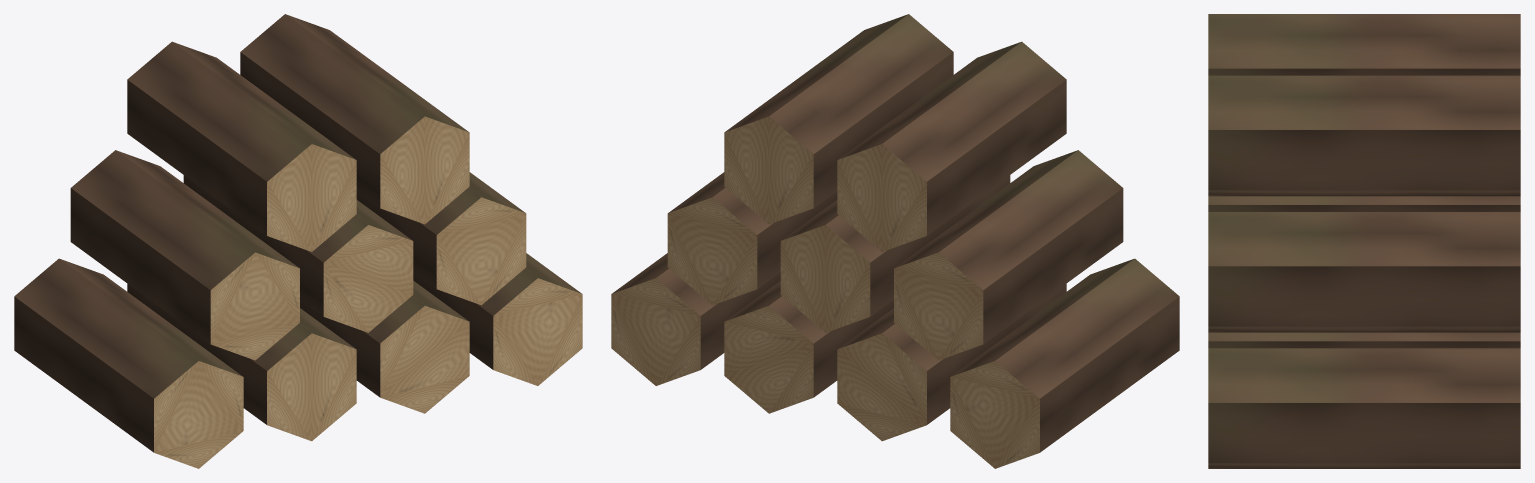
The model's file is SM_Camp_FirewoodStack.fbx.
3 renders of one model, left to right at view 1: azimuth 30°, elevation 25°; view 2: azimuth 150°, elevation 25°; view 3: azimuth 270°, elevation 25°, orthographic. The views are drawn at different scales.
Parts seen in each view (by area): view 1: SM_Camp_FirewoodStack; view 2: SM_Camp_FirewoodStack; view 3: SM_Camp_FirewoodStack.
Part boxes in pixels (x1,y1,x2,y2): SM_Camp_FirewoodStack: (14,14,582,468); SM_Camp_FirewoodStack: (611,14,1179,468); SM_Camp_FirewoodStack: (1208,14,1520,468).
Size of the model in its own units: 2.65 by 1.76 by 1.5.
1 material, 1 textured.
